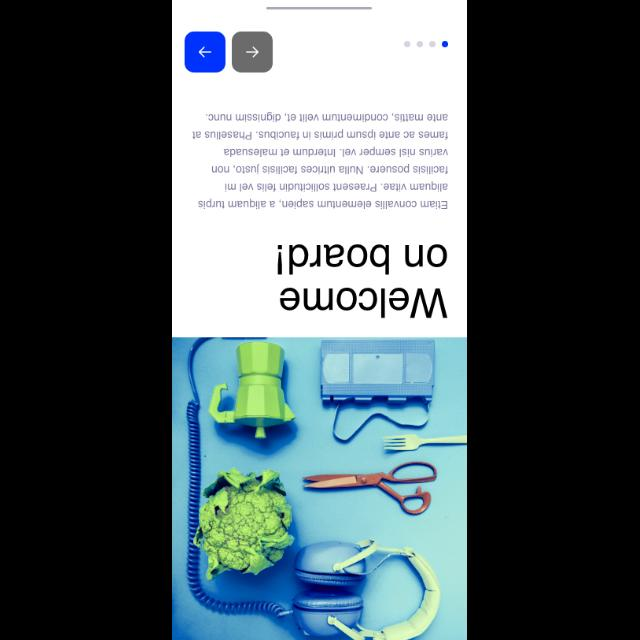icon: (184, 32, 226, 72), (232, 32, 272, 72)
image: (173, 337, 467, 639)
pageindicator: (404, 41, 448, 48)
text: (193, 111, 449, 209), (277, 243, 449, 319)
